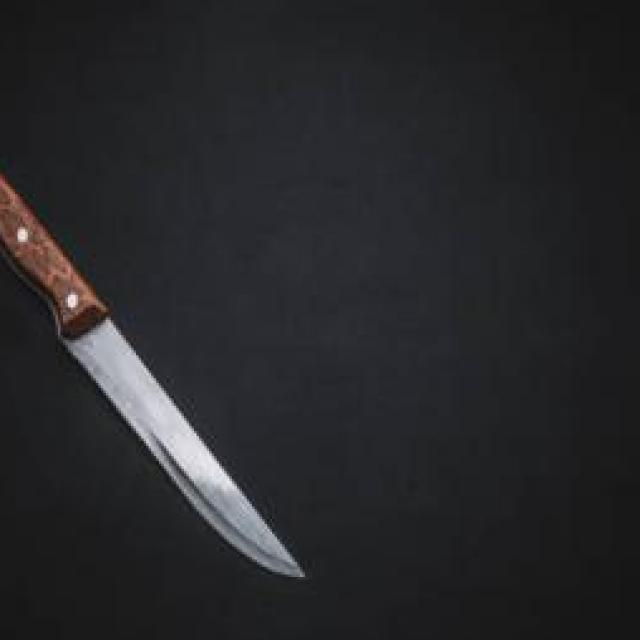knife: (0, 138, 307, 582)
